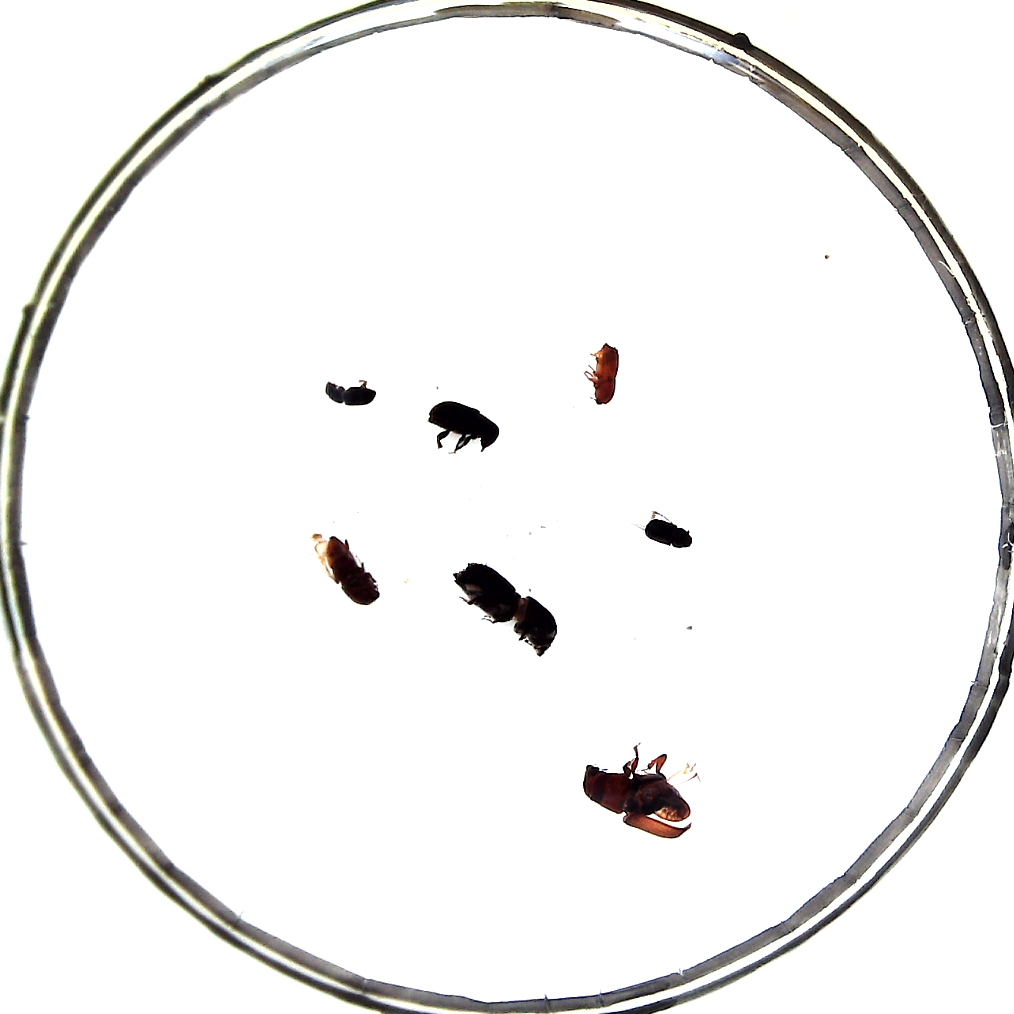Boerner: (455, 563, 559, 656)
Leconte: (583, 757, 692, 839)
Linnaeus: (319, 532, 377, 608)
acuminatus: (583, 344, 620, 402)
armandi: (428, 402, 500, 451)
coleoptera: (643, 513, 692, 550), (322, 374, 376, 407)
